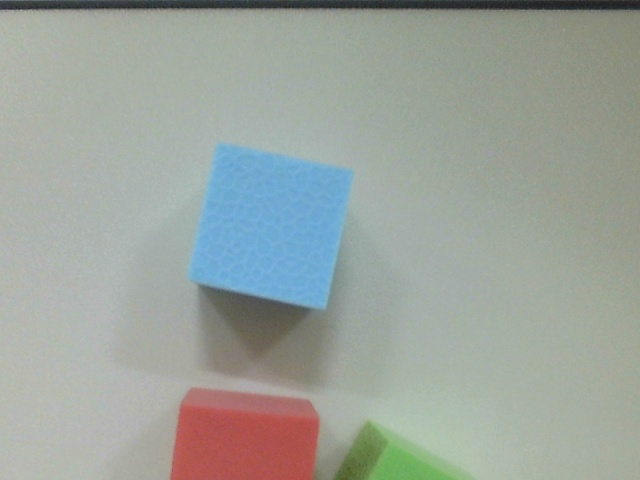greencube: (331, 415, 497, 480)
